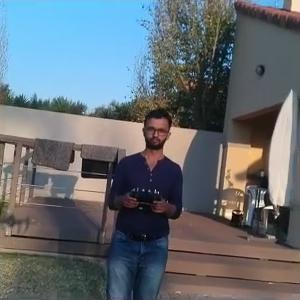follow: (102, 102, 189, 298)
